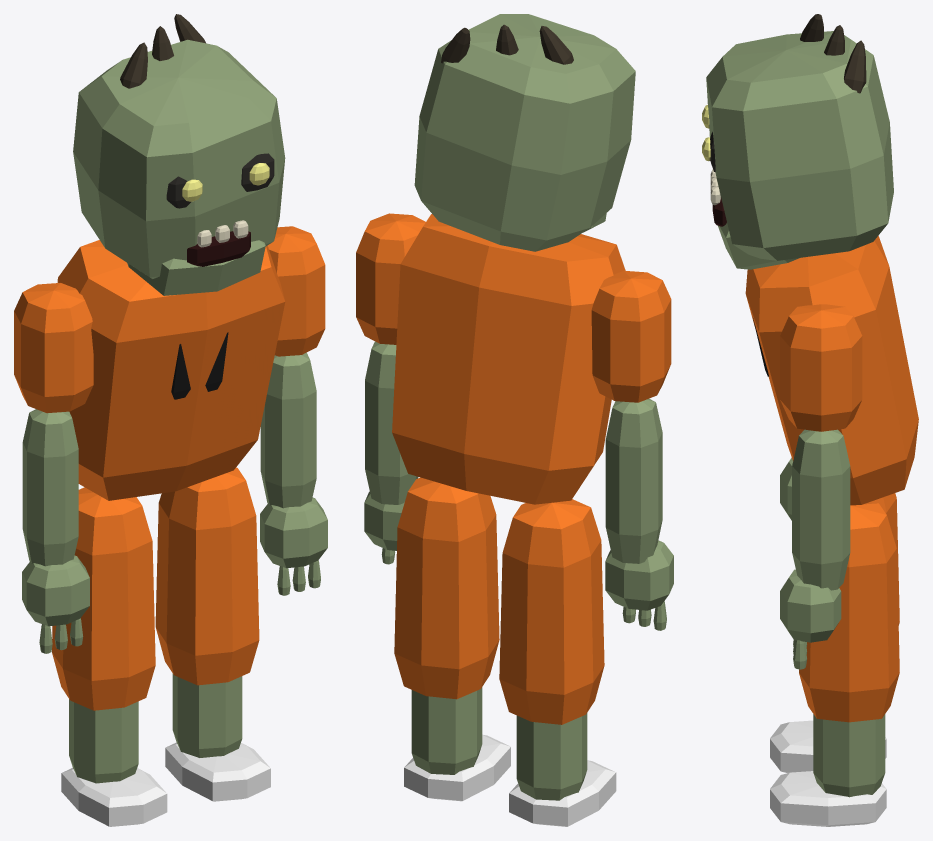
Rendered from mon-prisoner-1.glb.
3 views of the same model, side by side, from view 1: azimuth 30°, elevation 25°; view 2: azimuth 150°, elevation 25°; view 3: azimuth 270°, elevation 25° (orthographic).
Visible parts, largest first — view 1: head, torso, leg-left, leg-right, arm-right, arm-left; view 2: torso, head, leg-right, leg-left, arm-right, arm-left; view 3: head, leg-left, arm-left, torso, leg-right, arm-right.
Part boxes in pixels (<box>): head: <box>73,14,285,295</box>; torso: <box>57,240,285,500</box>; leg-left: <box>155,467,270,801</box>; leg-right: <box>52,487,167,826</box>; arm-right: <box>14,283,93,653</box>; arm-left: <box>260,226,327,595</box>; torso: <box>392,214,625,504</box>; head: <box>414,14,635,251</box>; leg-right: <box>499,499,616,826</box>; leg-left: <box>394,477,510,801</box>; arm-right: <box>591,270,673,630</box>; arm-left: <box>356,213,425,564</box>; head: <box>702,14,893,269</box>; leg-left: <box>770,502,899,826</box>; arm-left: <box>780,304,862,669</box>; torso: <box>745,236,918,505</box>; leg-right: <box>770,493,899,772</box>; arm-right: <box>780,457,792,520</box>.
Size of the model in its own units: 0.9745 by 2.4 by 0.617.
